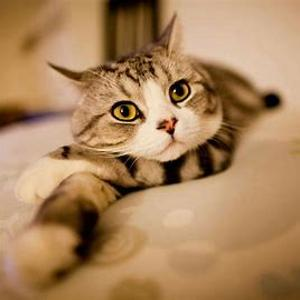cat: (77, 62, 223, 160)
